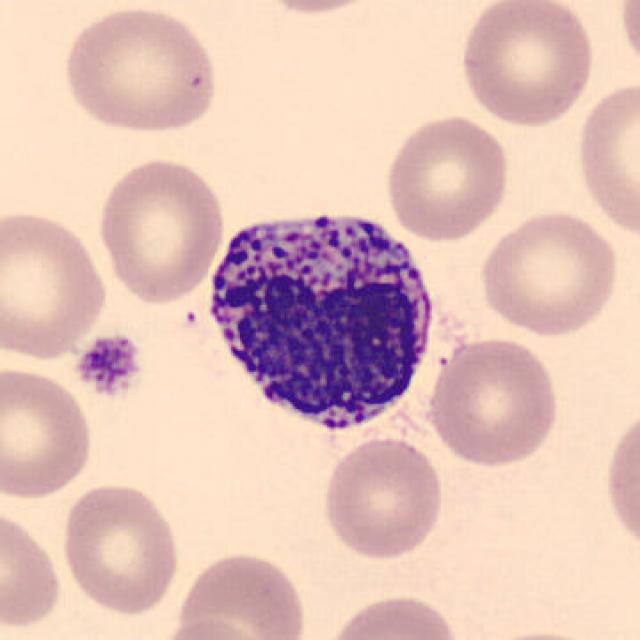Basophil: (196, 192, 444, 450)
Platelets: (71, 332, 144, 396)
RBC: (57, 4, 220, 136), (92, 153, 228, 307), (475, 206, 624, 338), (423, 333, 564, 469), (455, 0, 599, 129), (0, 205, 112, 363), (380, 111, 514, 243), (57, 480, 183, 617), (318, 432, 448, 562), (0, 362, 98, 502), (171, 548, 311, 640), (572, 76, 638, 240), (0, 502, 66, 633), (320, 590, 462, 640), (601, 400, 640, 561), (151, 615, 270, 640), (242, 0, 389, 18), (615, 0, 640, 83), (471, 626, 613, 640)
